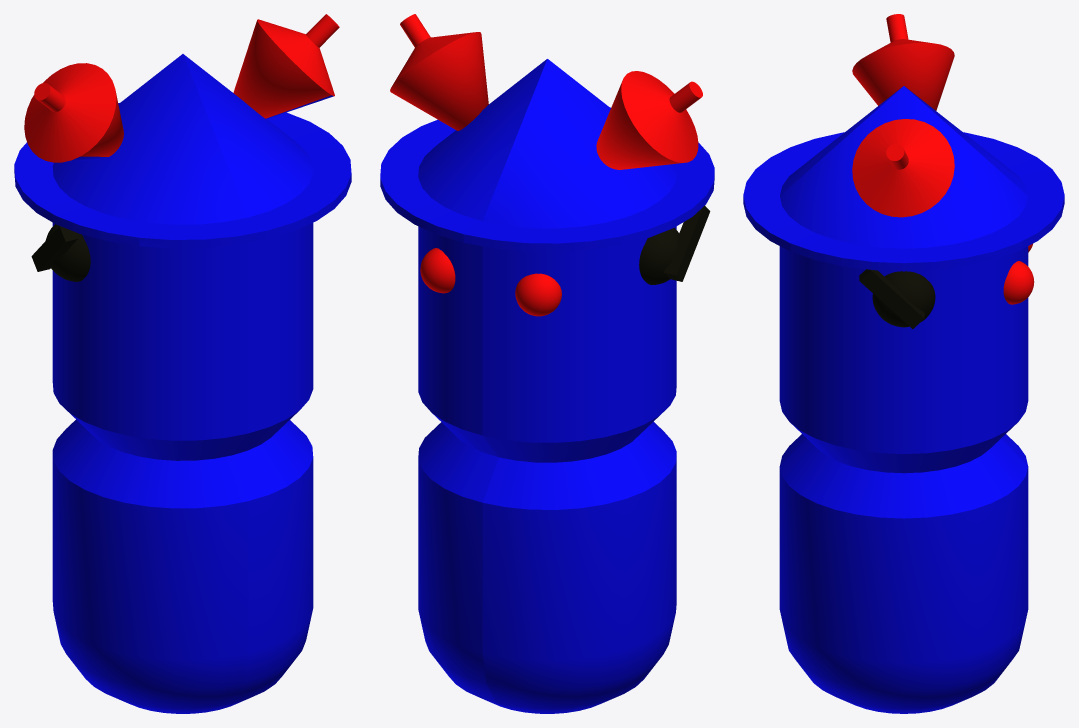
The model's file is virus2.fbx.
The picture shows the model from 3 angles, left to right: view 1: azimuth 30°, elevation 25°; view 2: azimuth 150°, elevation 25°; view 3: azimuth 270°, elevation 25°; orthographic projection. The views are drawn at different scales.
Parts seen in each view (by area): view 1: Cylinder; view 2: Cylinder; view 3: Cylinder.
Boxes of the visible parts, x1,y1,x2,y2 form: Cylinder: (14, 14, 351, 713); Cylinder: (380, 14, 714, 713); Cylinder: (743, 14, 1064, 713).
Bounding box in the file's own units: 267 × 544 × 259.
